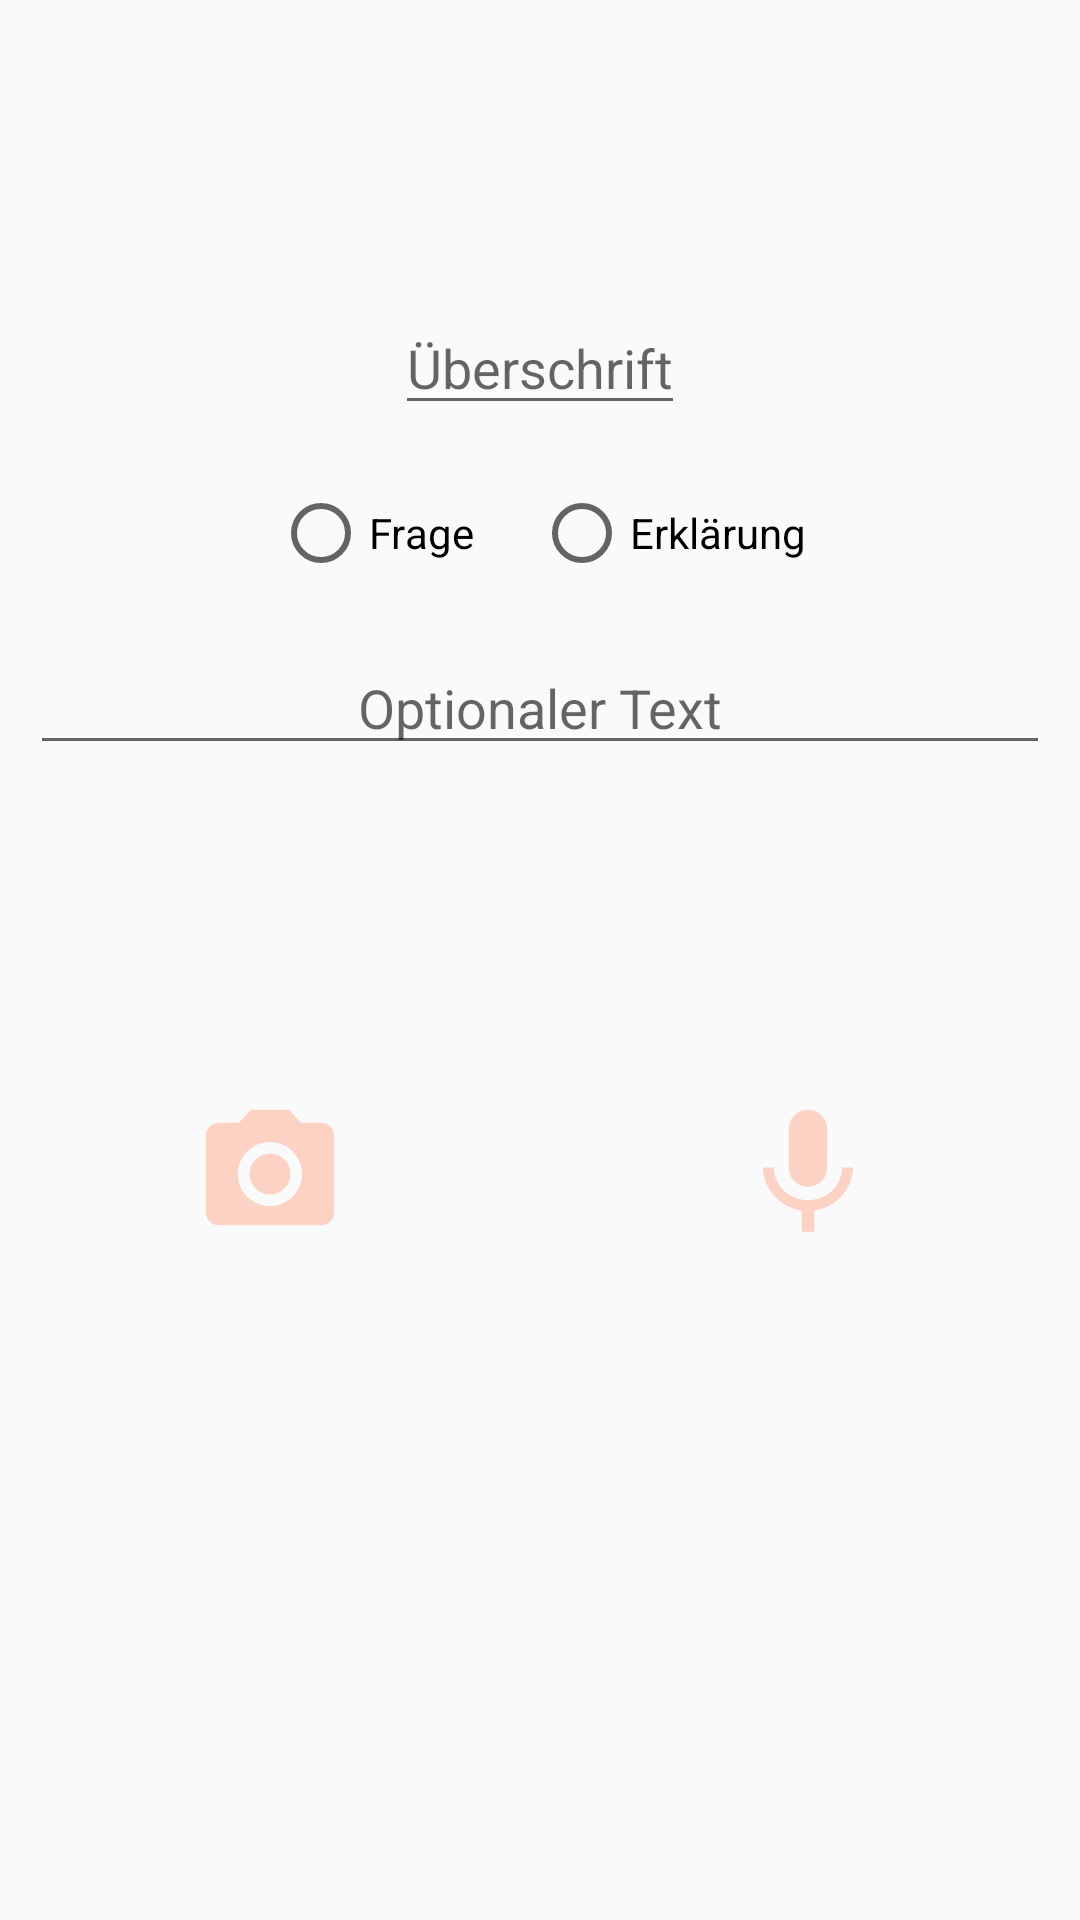

Icons on this 1080*1920 Android screen, each with its box as box(x1, y1, x2, y2):
newcontent cameraselector: box(206, 1110, 334, 1225)
newcontent microselector: box(763, 1110, 853, 1232)
